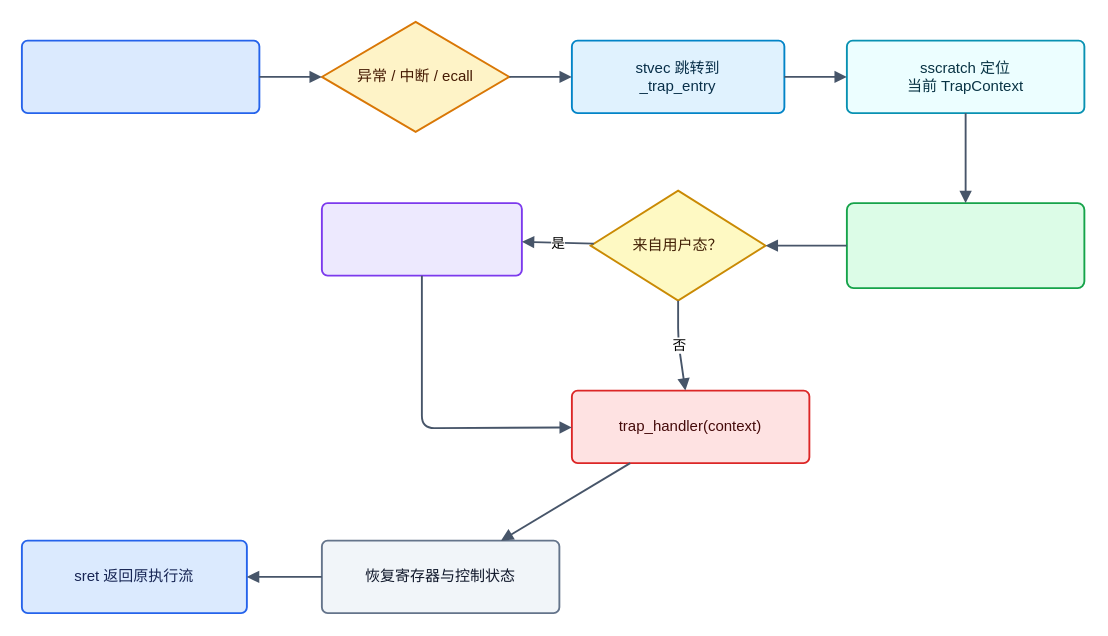
Some shapes in this 1108 by 636 pixel diagram are drawn without their labels. The shapes that lost their labels are listed below. From the top down, each one's centre as x and y in pixels, then its label:
point (140, 76): 用户态或内核态执行流
point (421, 239): 切换到进程 内核栈
point (965, 245): 保存通用寄存器 sepc/scause/sstatus/stval
